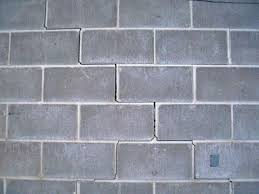stairstep_crack: (41, 0, 197, 181)
